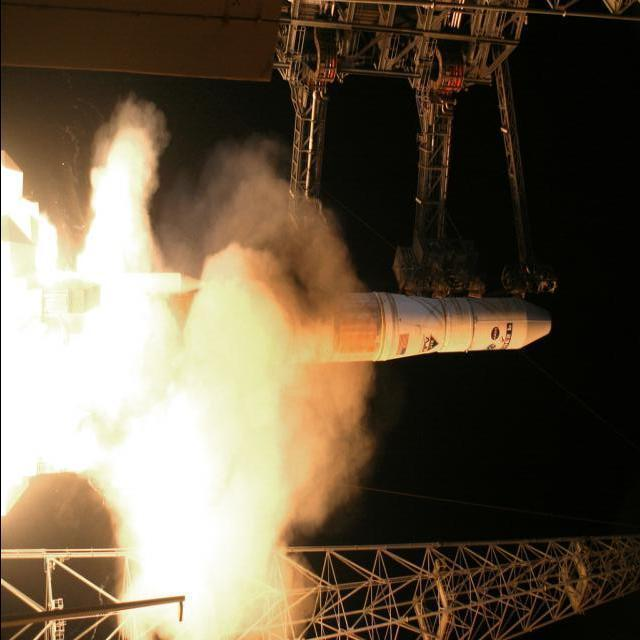missile: (3, 276, 564, 383)
